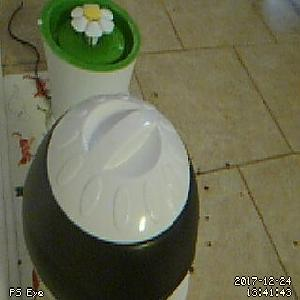fountain: (36, 1, 142, 72)
